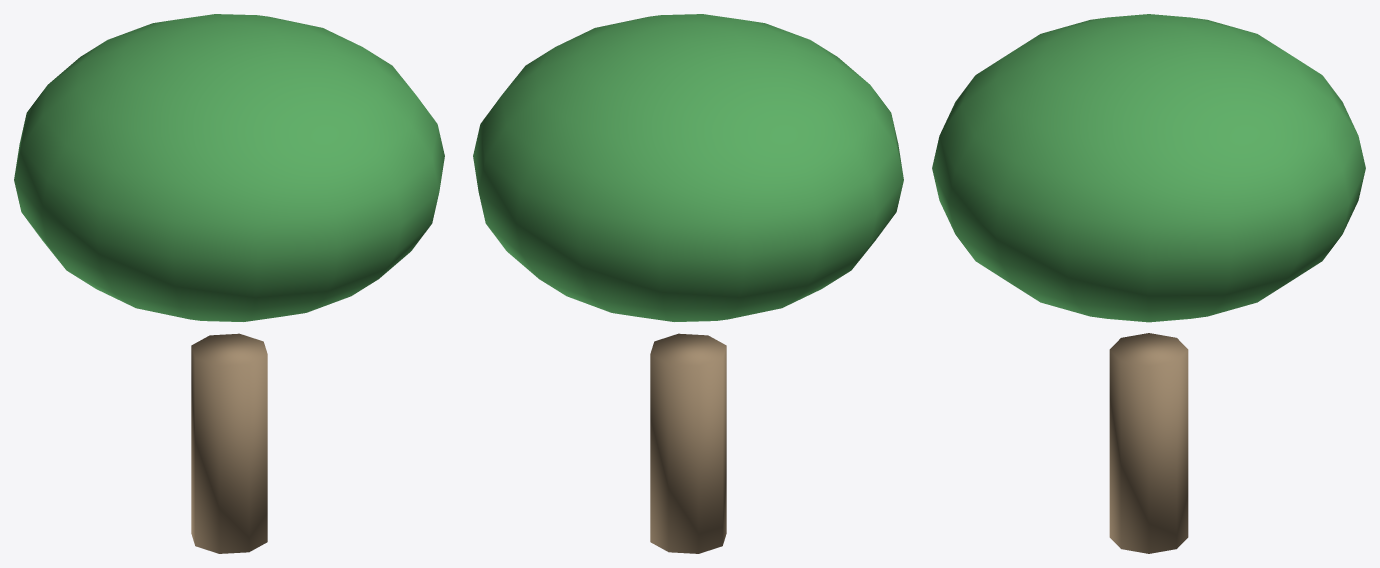
The model's file is tree_oak_v1.glb.
3 views of the same model, side by side, from view 1: azimuth 30°, elevation 25°; view 2: azimuth 150°, elevation 25°; view 3: azimuth 270°, elevation 25° (orthographic).
Visible parts, largest first — view 1: canopy, trunk; view 2: canopy, trunk; view 3: canopy, trunk.
Boxes of the visible parts, x1=… form: canopy: x1=14, y1=14, x2=444, y2=321; trunk: x1=191, y1=333, x2=267, y2=553; canopy: x1=473, y1=14, x2=903, y2=321; trunk: x1=650, y1=333, x2=726, y2=553; canopy: x1=932, y1=14, x2=1365, y2=322; trunk: x1=1109, y1=333, x2=1188, y2=553.
Size of the model in its own units: 4.4 by 5.53 by 4.4.
